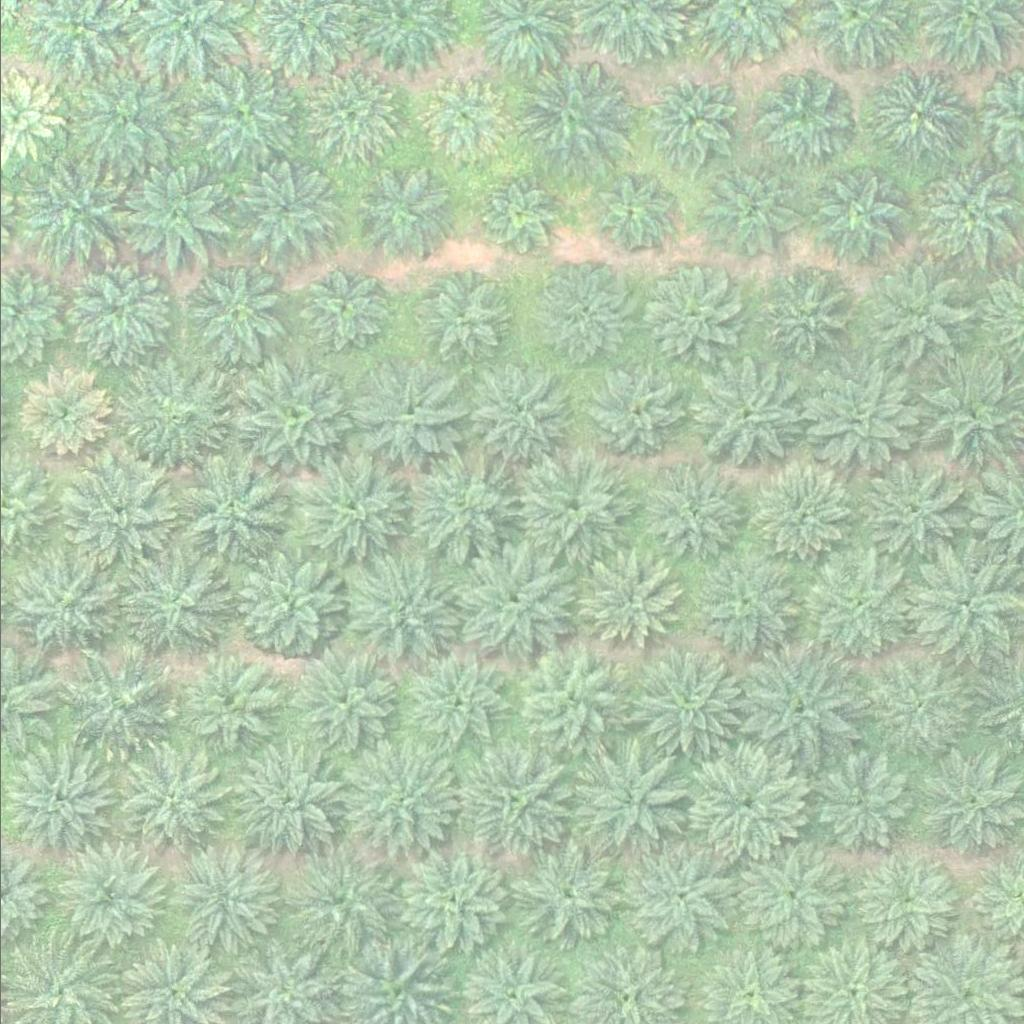Kelapa_Sawit: (187, 60, 301, 173), (61, 66, 175, 179), (116, 158, 230, 271), (515, 641, 629, 754), (457, 746, 571, 859), (339, 746, 453, 859), (283, 845, 397, 958), (168, 846, 282, 959), (689, 748, 802, 861), (577, 745, 690, 858), (859, 649, 972, 762), (740, 654, 853, 767), (628, 647, 741, 760), (906, 551, 1019, 664), (804, 356, 917, 469), (688, 356, 801, 469), (576, 354, 689, 467), (463, 355, 576, 468), (350, 361, 463, 474), (236, 361, 349, 474), (295, 451, 408, 564), (169, 453, 282, 566), (59, 456, 172, 569), (227, 742, 340, 855), (109, 749, 222, 862), (50, 842, 163, 955), (6, 548, 119, 661), (19, 156, 132, 269), (393, 847, 507, 959), (731, 843, 844, 955), (621, 847, 734, 959), (800, 552, 913, 664), (687, 550, 800, 662), (858, 454, 971, 566), (910, 360, 1023, 472), (910, 162, 1023, 274), (510, 64, 623, 176), (114, 362, 227, 474), (517, 447, 630, 559), (401, 450, 514, 562), (457, 549, 570, 661), (345, 555, 458, 667), (233, 549, 346, 661), (120, 544, 233, 656), (290, 648, 403, 760), (60, 645, 173, 757), (512, 841, 625, 953), (6, 742, 119, 854), (580, 553, 681, 653), (748, 461, 849, 561), (642, 466, 743, 566), (865, 261, 966, 361), (752, 263, 853, 363), (805, 164, 906, 264), (870, 61, 971, 161), (756, 67, 857, 167), (356, 166, 457, 266), (231, 161, 332, 261), (406, 267, 507, 367), (183, 260, 284, 360), (179, 657, 280, 757), (851, 853, 951, 953), (807, 756, 907, 856), (637, 264, 737, 364), (533, 264, 633, 364), (701, 162, 801, 262), (68, 260, 168, 360), (402, 652, 502, 752), (416, 73, 504, 161), (476, 174, 564, 262), (300, 264, 388, 352), (19, 368, 107, 456), (647, 75, 735, 162), (311, 73, 399, 160), (593, 174, 669, 249)
